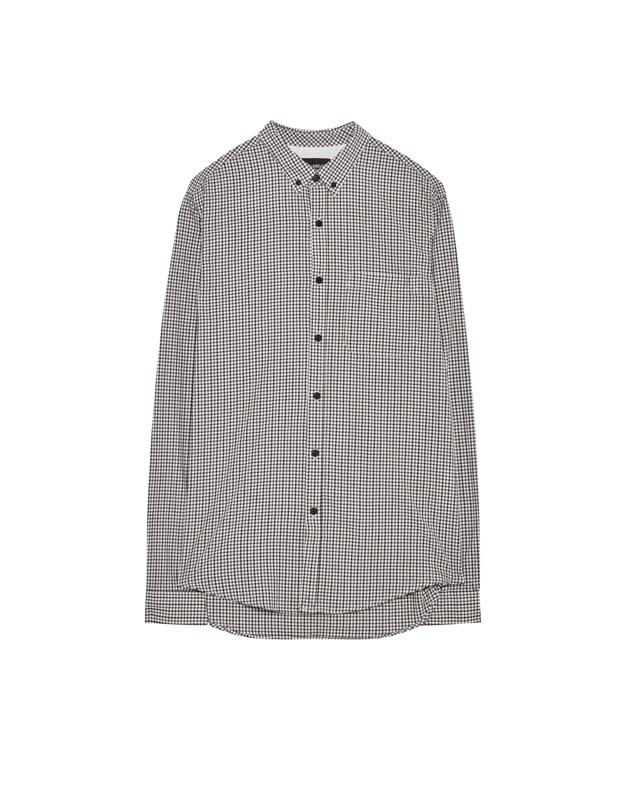teeshirt: (135, 119, 491, 641)
